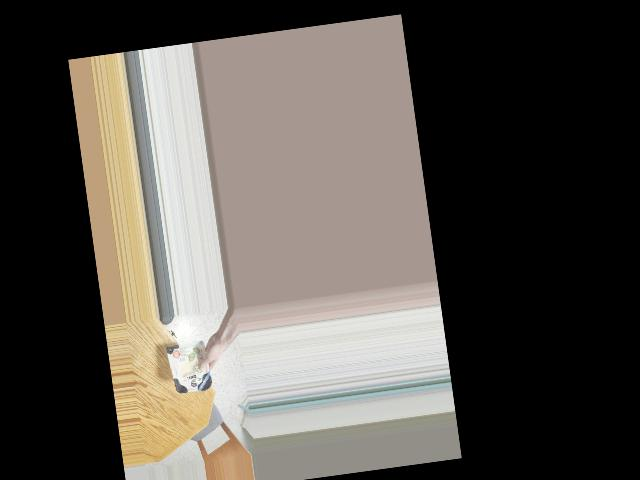cheese: (165, 332, 212, 403)
